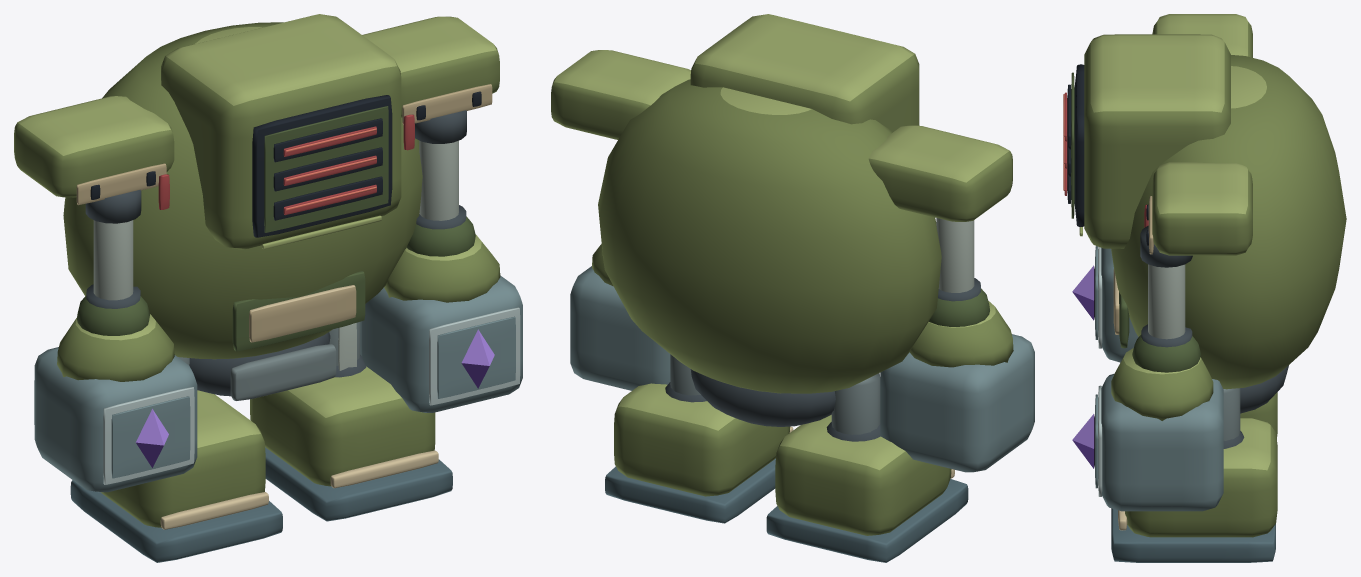
Rendered from military-robot.obj.
3 views of the same model, side by side, from view 1: azimuth 30°, elevation 25°; view 2: azimuth 150°, elevation 25°; view 3: azimuth 270°, elevation 25° (orthographic). The views are drawn at different scales.
Visible parts, largest first — view 1: Torso_Rounded_Main, Head_Armor, Boot_Armor_R, Shoulder_Armor_L, Gauntlet_Main_L, Gauntlet_Main_R, Boot_Armor_L, Shoulder_Armor_R, Boot_Sole_L, Head_Visor_Inset, Boot_Sole_R, Gauntlet_Cuff_L (+31 smaller); view 2: Torso_Rounded_Main, Head_Armor, Gauntlet_Main_L, Boot_Armor_L, Boot_Armor_R, Shoulder_Armor_L, Shoulder_Armor_R, Gauntlet_Main_R, Boot_Sole_L, Boot_Sole_R, Pelvis_Joint, Gauntlet_Cuff_L (+4 smaller); view 3: Torso_Rounded_Main, Head_Armor, Gauntlet_Main_R, Shoulder_Armor_R, Boot_Armor_R, Boot_Sole_R, Gauntlet_Cuff_R, Arm_Piston_R, Shoulder_Armor_L, Elbow_Joint_R, Gauntlet_Main_L, Head_Visor_Frame (+12 smaller).
Part boxes in pixels (bbox=[...]): Torso_Rounded_Main: bbox=[63, 22, 422, 359]; Head_Armor: bbox=[161, 14, 401, 249]; Boot_Armor_R: bbox=[250, 366, 435, 486]; Shoulder_Armor_L: bbox=[14, 96, 174, 197]; Gauntlet_Main_L: bbox=[34, 347, 197, 492]; Gauntlet_Main_R: bbox=[360, 275, 522, 412]; Boot_Armor_L: bbox=[101, 390, 265, 527]; Shoulder_Armor_R: bbox=[362, 16, 499, 117]; Boot_Sole_L: bbox=[70, 480, 282, 562]; Head_Visor_Inset: bbox=[264, 106, 388, 232]; Boot_Sole_R: bbox=[265, 447, 452, 521]; Gauntlet_Cuff_L: bbox=[57, 314, 174, 381]; Torso_Rounded_Main: bbox=[598, 79, 941, 393]; Head_Armor: bbox=[690, 14, 919, 132]; Gauntlet_Main_L: bbox=[880, 334, 1034, 472]; Boot_Armor_L: bbox=[775, 415, 951, 535]; Boot_Armor_R: bbox=[614, 383, 789, 496]; Shoulder_Armor_L: bbox=[868, 125, 1012, 221]; Shoulder_Armor_R: bbox=[551, 50, 690, 139]; Gauntlet_Main_R: bbox=[570, 266, 670, 390]; Boot_Sole_L: bbox=[766, 479, 968, 562]; Boot_Sole_R: bbox=[605, 458, 775, 523]; Pelvis_Joint: bbox=[690, 369, 835, 426]; Gauntlet_Cuff_L: bbox=[909, 301, 1013, 367]; Torso_Rounded_Main: bbox=[1111, 55, 1346, 389]; Head_Armor: bbox=[1084, 34, 1230, 248]; Gauntlet_Main_R: bbox=[1101, 373, 1223, 511]; Shoulder_Armor_R: bbox=[1152, 162, 1252, 255]; Boot_Armor_R: bbox=[1125, 418, 1277, 537]; Boot_Sole_R: bbox=[1111, 508, 1275, 562]; Gauntlet_Cuff_R: bbox=[1111, 348, 1213, 420]; Arm_Piston_R: bbox=[1148, 264, 1185, 339]; Shoulder_Armor_L: bbox=[1152, 14, 1252, 57]; Elbow_Joint_R: bbox=[1132, 335, 1200, 372]; Gauntlet_Main_L: bbox=[1101, 248, 1138, 362]; Head_Visor_Frame: bbox=[1074, 64, 1084, 226].
Size of the model in its own units: 3.21 by 3.17 by 1.89.
